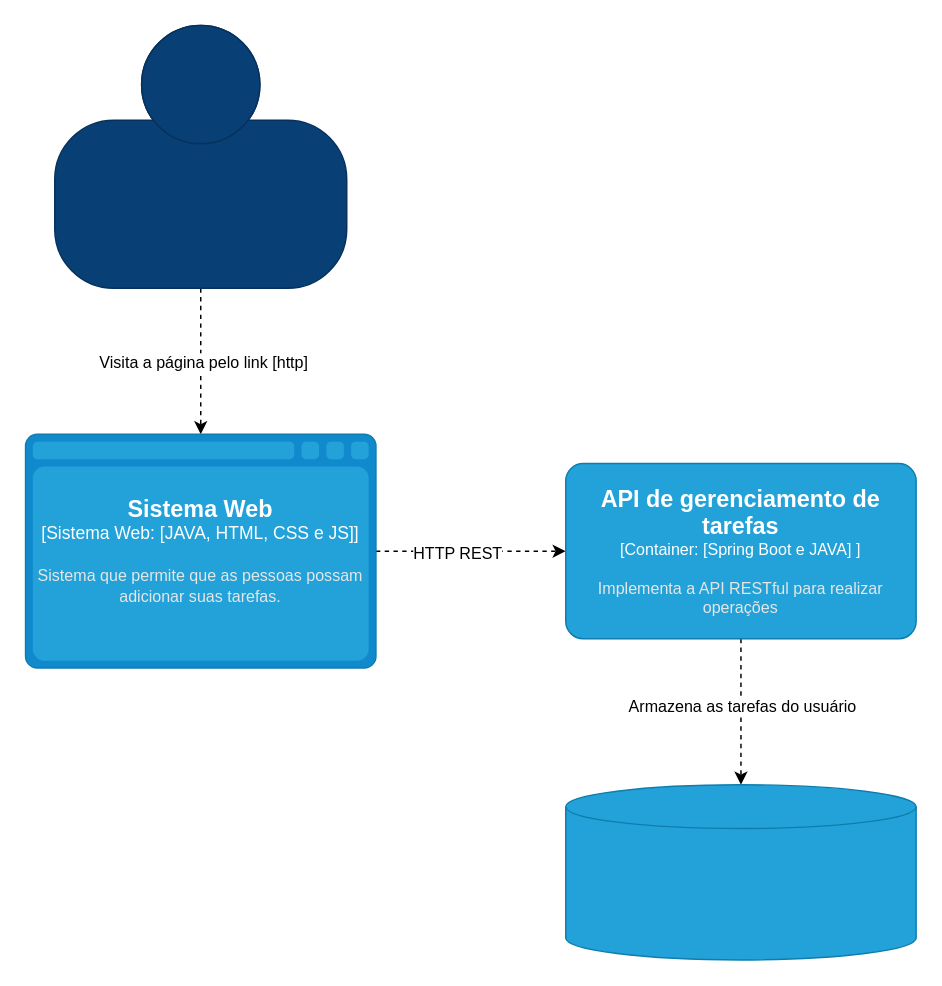
Image size: 942x986. Some labels were removed from this diagram. Each missing label, with the centre of its shape:
"Container [Container: SQL] Banco de dadso responsável por armazernar as taredas." goes at point 740,871.
"Usuário [Person] Pessoa que irá utilizar a to do list." goes at point 200,156.
